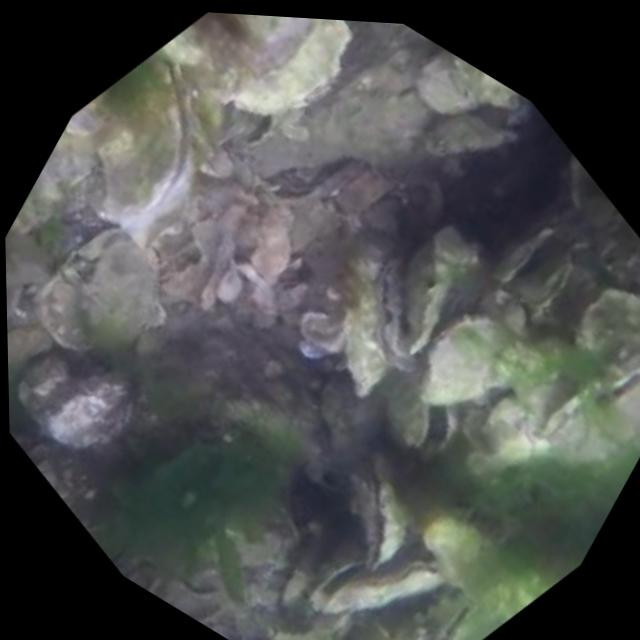Oyster-Closed: (362, 208, 504, 377), (315, 242, 448, 412), (532, 288, 640, 495), (317, 520, 452, 640), (518, 244, 583, 328)
Oyster-Indeterminate: (24, 208, 194, 388), (399, 289, 540, 446), (7, 321, 144, 465), (413, 85, 520, 193), (410, 45, 520, 148), (559, 266, 640, 405), (211, 186, 313, 295), (410, 492, 491, 588), (490, 205, 562, 298), (267, 539, 332, 622)
Oyster-Open: (55, 33, 239, 253), (151, 9, 341, 124), (313, 444, 436, 584), (359, 357, 475, 471), (418, 560, 517, 640)
